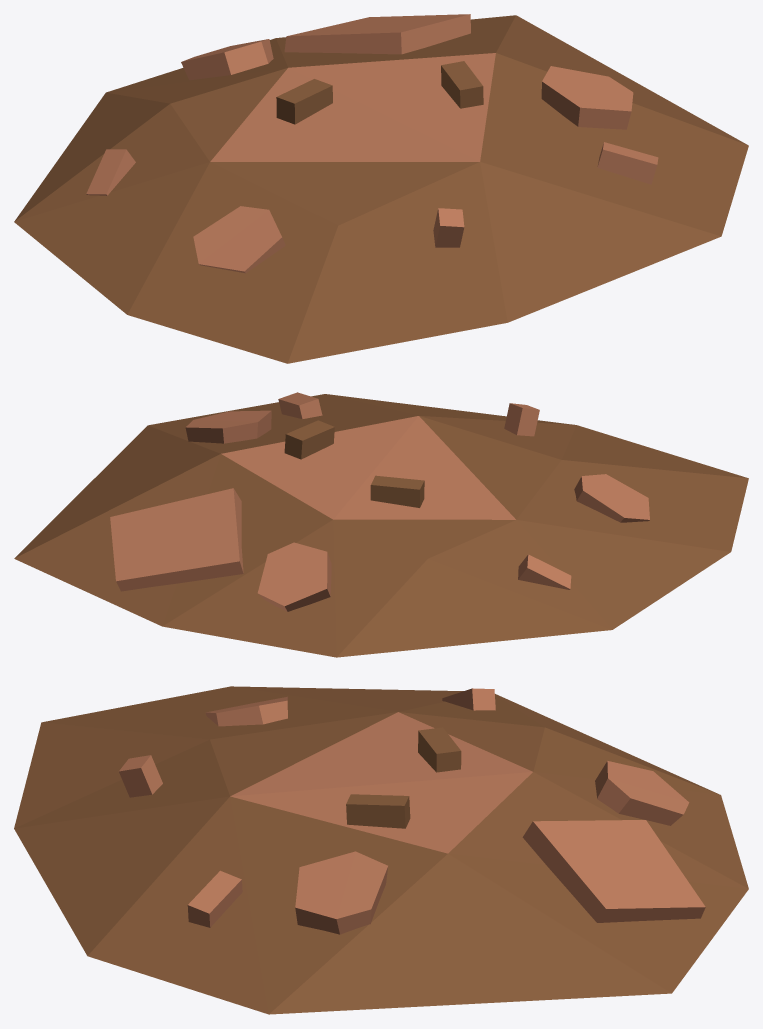
Rendered from rubble-apocalypse-b.fbx.
3 views of the same model, one above another, from view 1: azimuth 30°, elevation 25°; view 2: azimuth 150°, elevation 25°; view 3: azimuth 270°, elevation 25° (orthographic). The views are drawn at different scales.
Parts seen in each view (by area): view 1: rubble-apocalypse-b; view 2: rubble-apocalypse-b; view 3: rubble-apocalypse-b.
Part boxes in pixels (box(x1,y1,x2,y2)): rubble-apocalypse-b: box(14, 14, 748, 363); rubble-apocalypse-b: box(14, 392, 748, 657); rubble-apocalypse-b: box(14, 686, 748, 1014).
Size of the model in its own units: 5.34 by 0.727 by 5.06.
